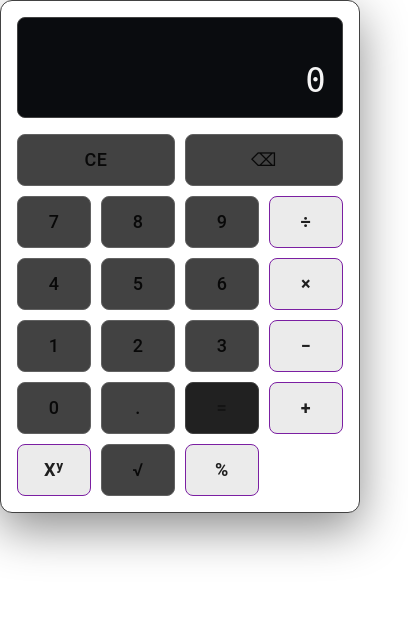
Calculator › shows a client-side error when calculation cannot be built
Click the button "1": (54, 346) x1=17 y1=320 x2=91 y2=372
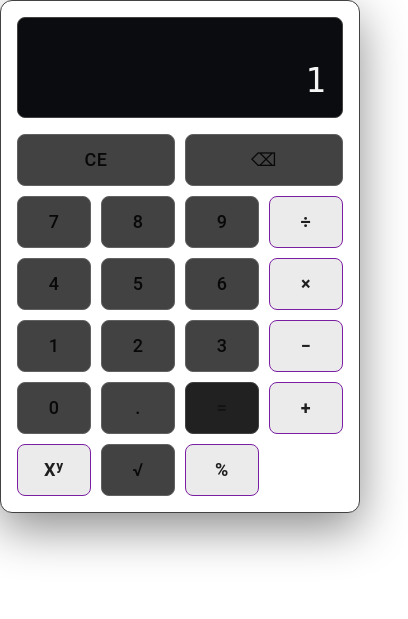
Click the button "+": (306, 408) x1=269 y1=382 x2=343 y2=434
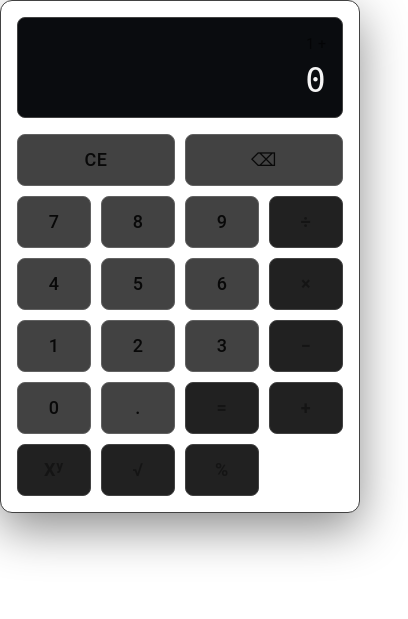
Click the button "2": (138, 346) x1=101 y1=320 x2=175 y2=372
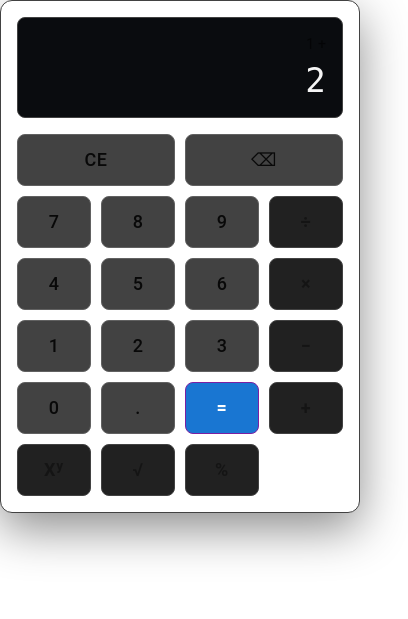
Click the button named "Equals": (222, 408) x1=185 y1=382 x2=259 y2=434
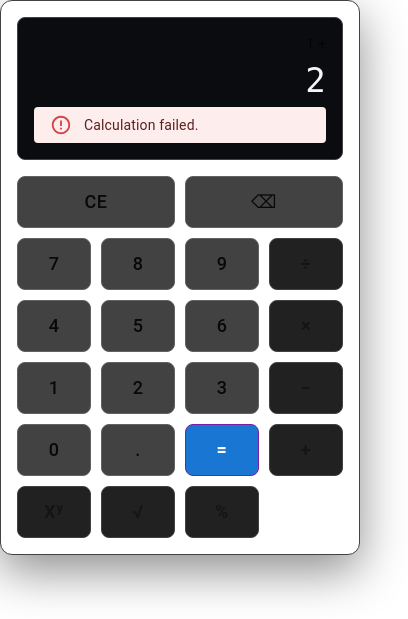
Expected: the message reads "Calculation failed.", x1=84 y1=117 x2=198 y2=133
